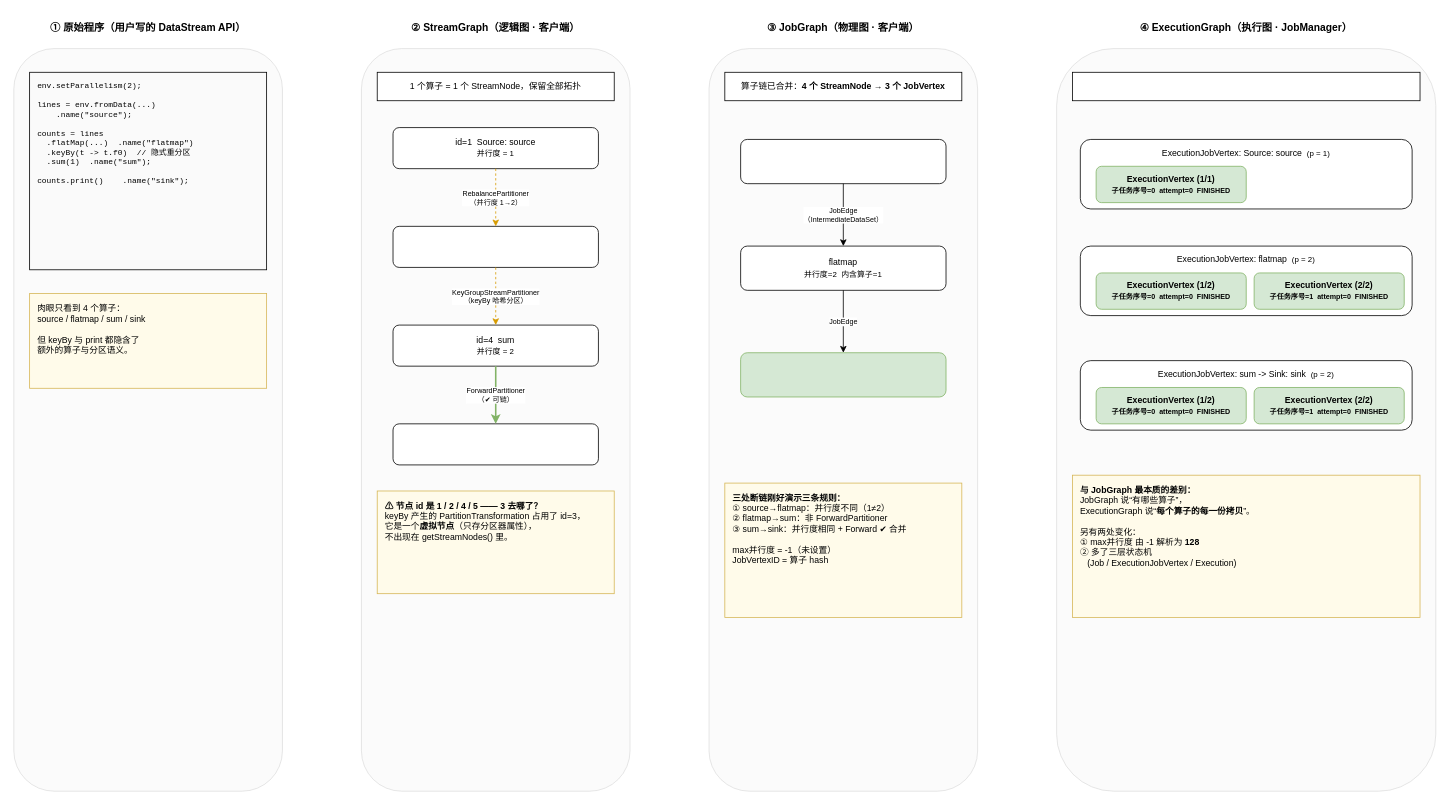
Image size: 1450x805. Some labels were removed from this diagram. The shapes that lost their labels are listed below. From the top down, each one's box as (x1, y1, x2, y2) in pixels, then its label:
(1072, 71, 1420, 101): 按并行度 展开 ：3 个 JobVertex → 5 个 ExecutionVertex
(740, 139, 946, 184): Source: source 并行度=1 内含算子=1
(392, 226, 598, 267): id=2 flatmap 并行度 = 2
(740, 352, 946, 397): sum -> Sink: sink 并行度=2 内含算子=2 ← 合并了！ OperatorChain
(392, 423, 598, 465): id=5 Sink: sink 并行度 = 2
